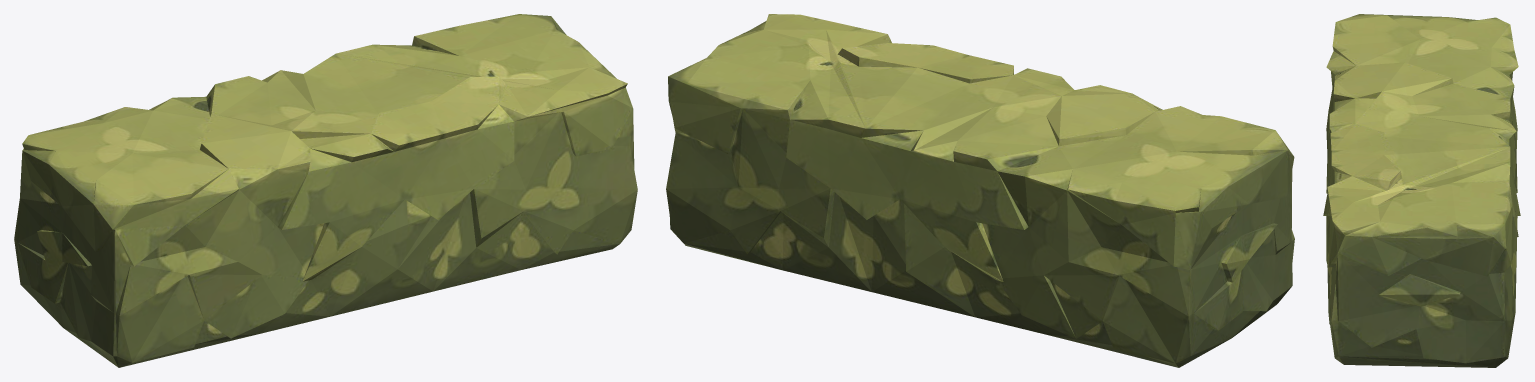
The model's file is hedge-CD2iclc1.glb.
The picture shows the model from 3 angles, left to right: view 1: azimuth 30°, elevation 25°; view 2: azimuth 150°, elevation 25°; view 3: azimuth 270°, elevation 25°; orthographic projection. The views are drawn at different scales.
Parts seen in each view (by area): view 1: tripo_node_eb26d3fa-807b-4542-9177-9c336295d6db; view 2: tripo_node_eb26d3fa-807b-4542-9177-9c336295d6db; view 3: tripo_node_eb26d3fa-807b-4542-9177-9c336295d6db.
Part boxes in pixels (bbox=[...]): tripo_node_eb26d3fa-807b-4542-9177-9c336295d6db: bbox=[14, 14, 637, 367]; tripo_node_eb26d3fa-807b-4542-9177-9c336295d6db: bbox=[666, 14, 1294, 367]; tripo_node_eb26d3fa-807b-4542-9177-9c336295d6db: bbox=[1323, 14, 1520, 367].
Bounding box in the file's own units: 0.9779 × 0.3043 × 0.3656.
Materials: 1 (1 with a texture image).
